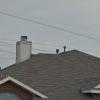Chimney: (11, 27, 40, 62)
